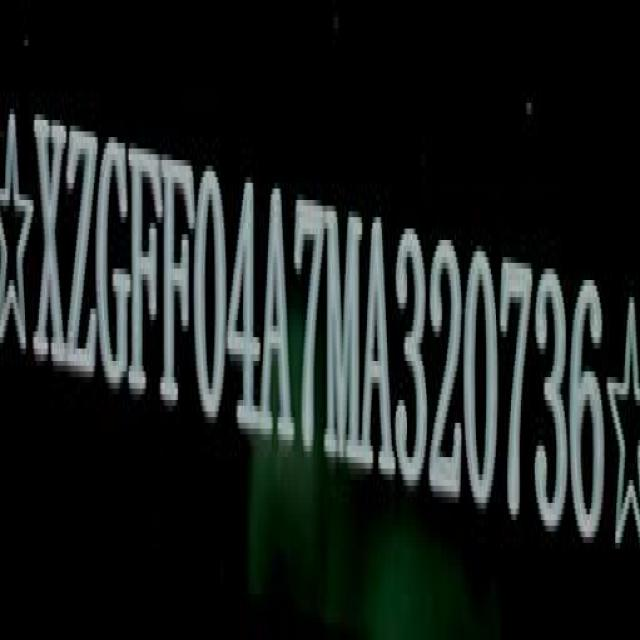0: (464, 238, 496, 517), (196, 156, 227, 434)
2: (431, 230, 463, 508)
3: (536, 263, 570, 542), (395, 222, 429, 496)
4: (227, 167, 259, 443)
6: (572, 272, 605, 550)
7: (295, 184, 326, 466), (503, 250, 531, 531)
A: (261, 186, 295, 459), (364, 212, 394, 486)
F: (163, 135, 195, 417), (131, 132, 162, 407)
G: (98, 121, 132, 394)
M: (328, 204, 364, 476)
X: (34, 102, 68, 378)
Z: (66, 111, 98, 386)
